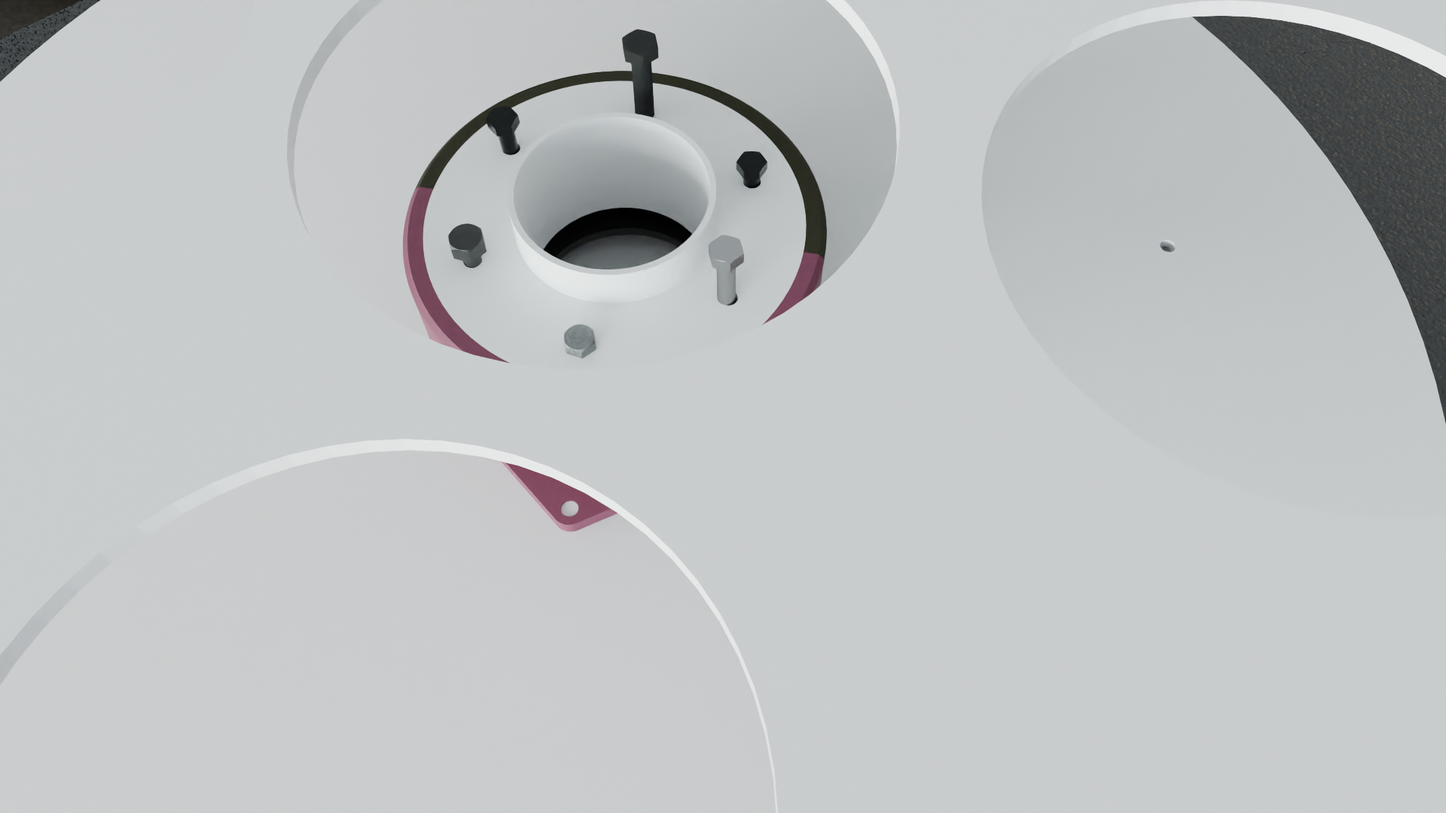bolt: (448, 224, 484, 254), (709, 235, 744, 264), (622, 29, 658, 56), (564, 324, 595, 354), (486, 106, 518, 129), (737, 151, 767, 172)
